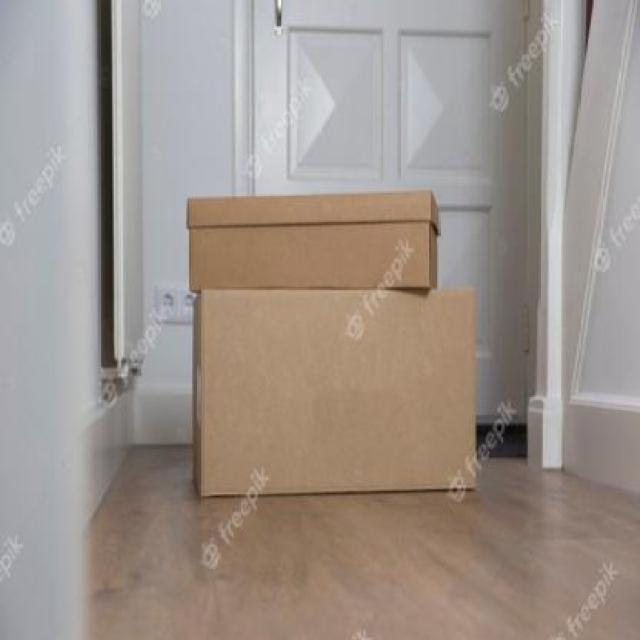box: (189, 289, 483, 500), (183, 185, 440, 292)
